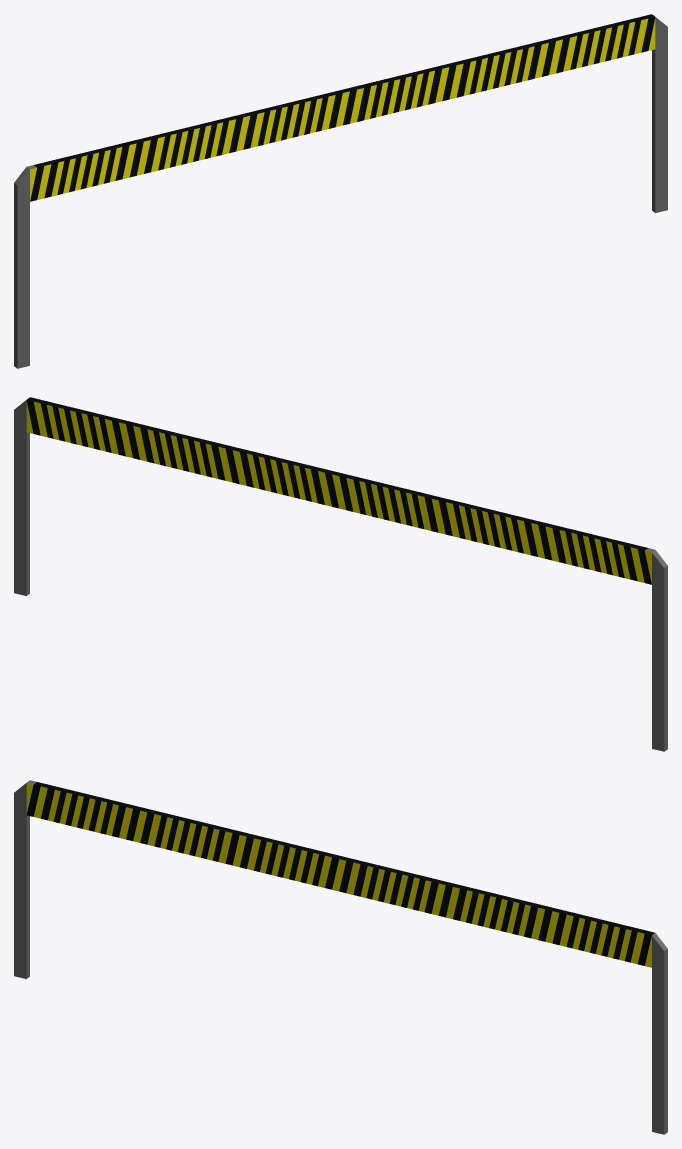
File: ObstacleOnePiece.fbx
3 renders of one model, top to bottom at view 1: azimuth 30°, elevation 25°; view 2: azimuth 150°, elevation 25°; view 3: azimuth 330°, elevation 25°, orthographic.
Parts seen in each view (by area): view 1: Cube.002; view 2: Cube.002; view 3: Cube.002.
Part boxes in pixels (box(x1,y1,x2,y2)): Cube.002: box(14, 14, 667, 368); Cube.002: box(14, 397, 667, 751); Cube.002: box(14, 780, 667, 1134).
Bounding box in the file's own units: 520 × 150 × 5.
